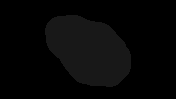fp: (35, 10, 142, 96)
